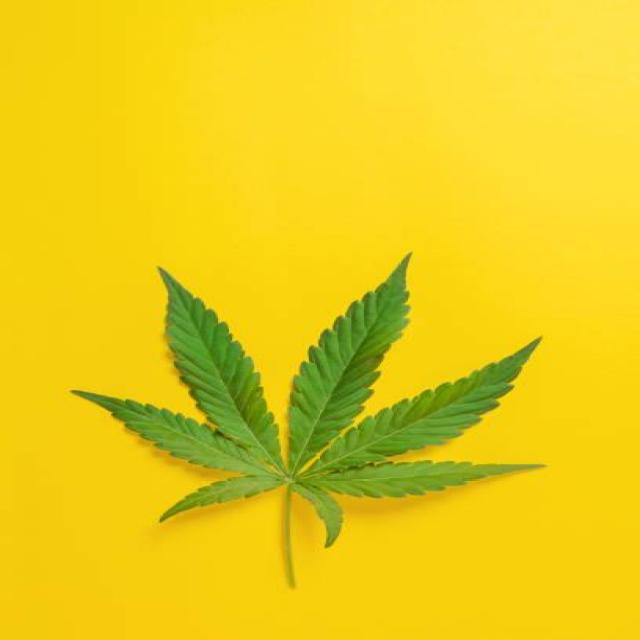cannabis: (71, 256, 547, 598)
